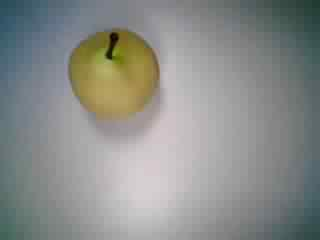pear: (64, 21, 163, 124)
